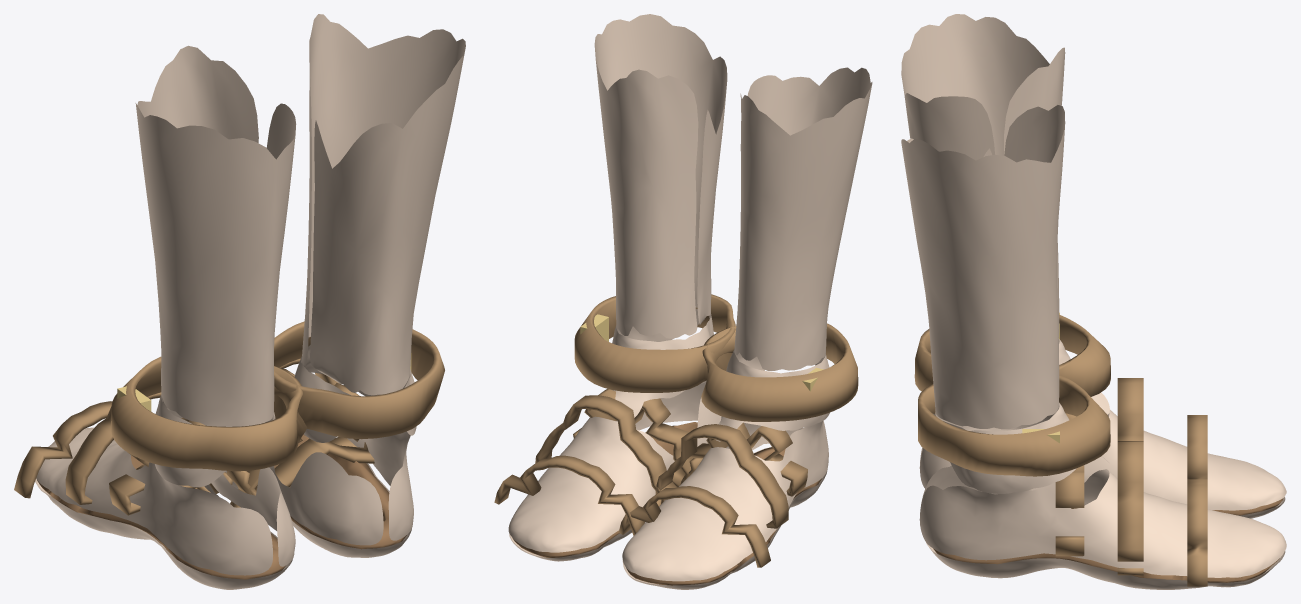
File: sandalen.glb
The picture shows the model from 3 angles, left to right: view 1: azimuth 30°, elevation 25°; view 2: azimuth 150°, elevation 25°; view 3: azimuth 270°, elevation 25°; orthographic projection. The views are drawn at different scales.
Visible parts, largest first — view 1: G_sandalen; view 2: G_sandalen; view 3: G_sandalen.
Boxes of the visible parts, box(x1,y1,x2,y2) form: G_sandalen: box(14, 14, 465, 589); G_sandalen: box(494, 14, 872, 589); G_sandalen: box(901, 14, 1286, 589).
Bounding box in the file's own units: 0.2324 × 0.3554 × 0.2662.
